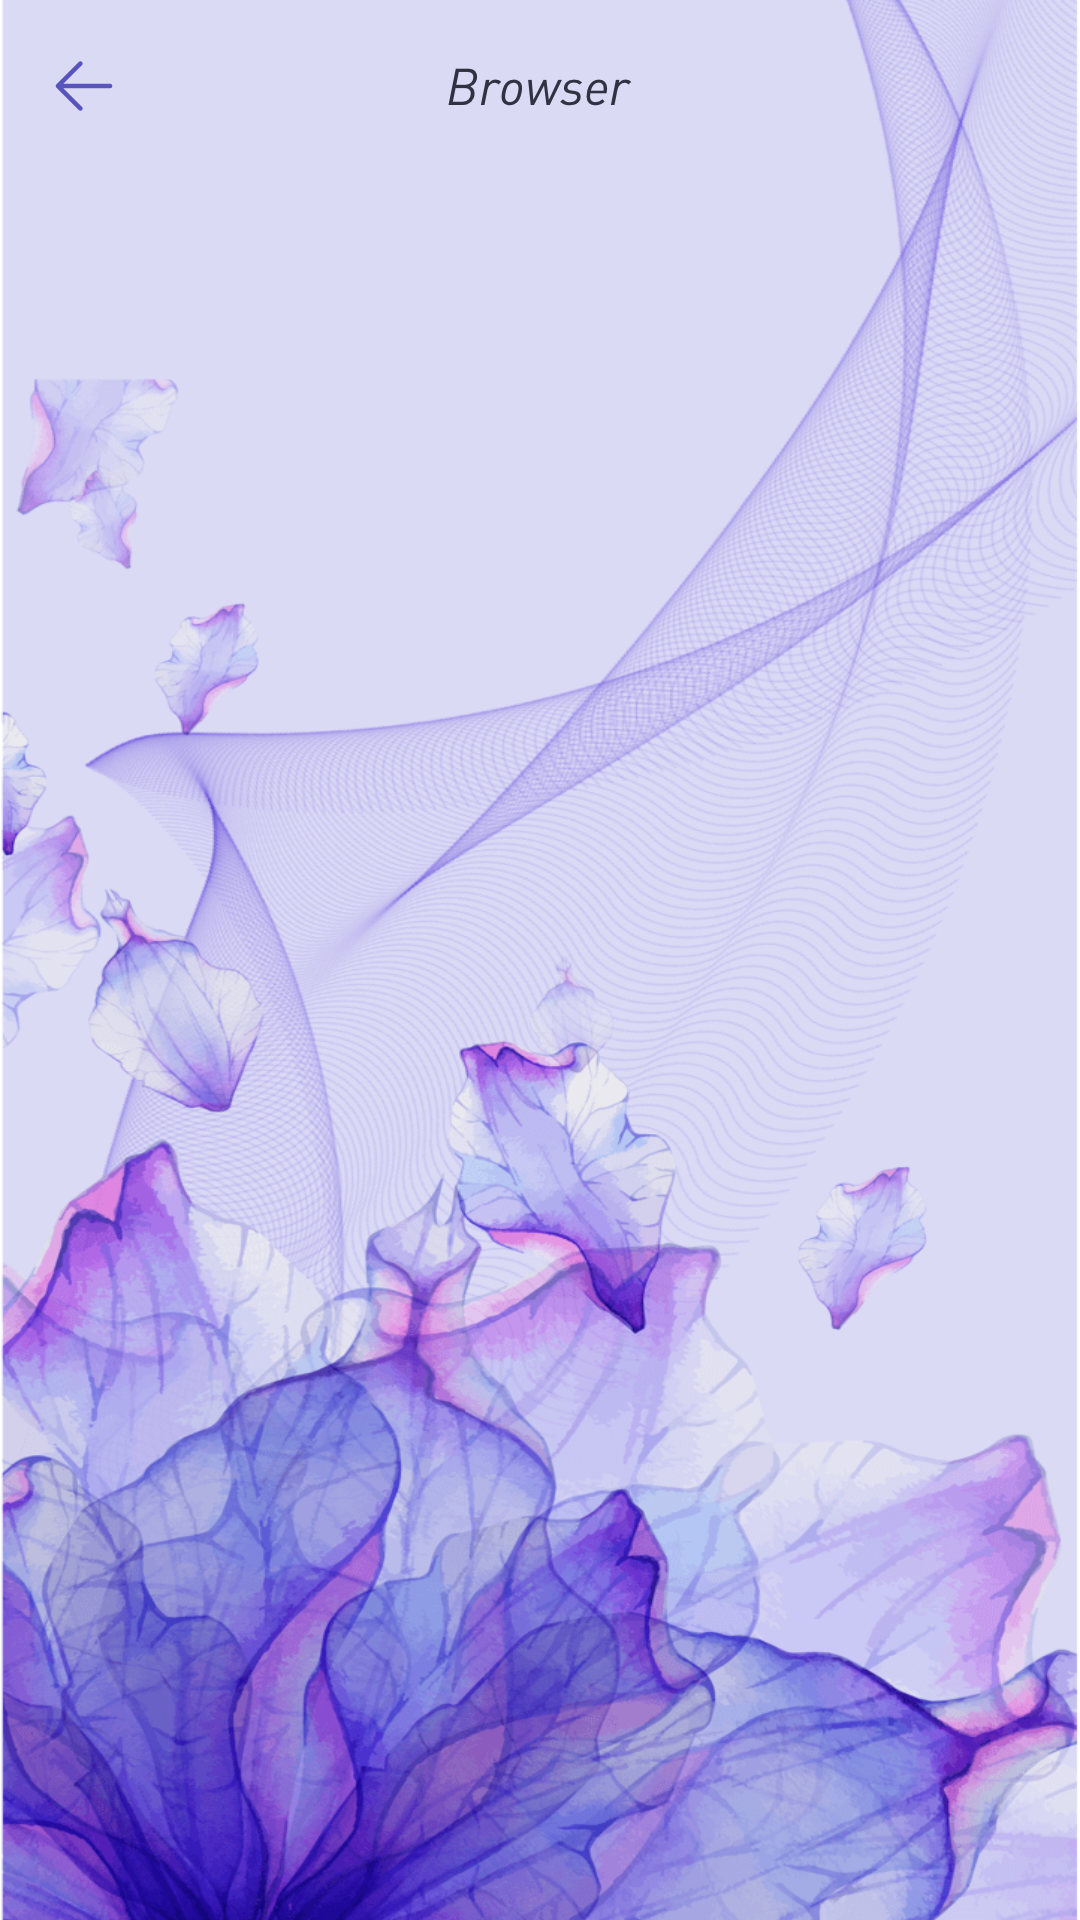

Icons on this 1080w x 1920h Android screen, each with the point to tap as point (x, y):
back: point (84, 86)
